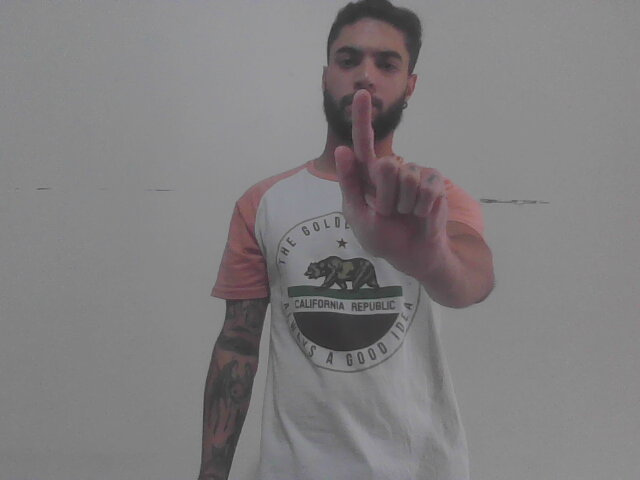g: (332, 85, 453, 279)
